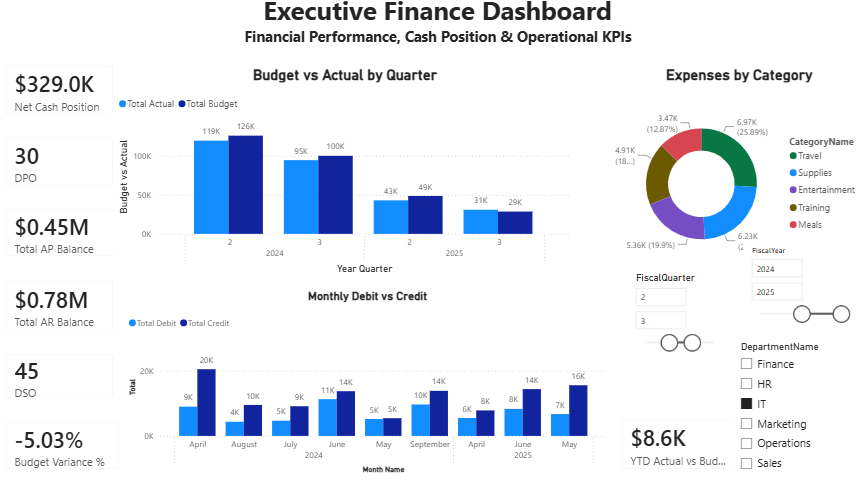

This screenshot's page, from the dashboard's own definition file:
{"tool":"powerbi","page":{"name":"Page 1","canvas":[1280,720],"ordinal":0},"visuals":[{"type":"cardVisual","title":"Net Cash Position","fields":{"Data":["dw FactGeneralLedger.Net Cash Position"]},"box":[0,95,191.7,105],"z":0},{"type":"textbox","box":[0,0,1269.9,95.7],"z":1000},{"type":"cardVisual","title":"DPO ","fields":{"Data":["dw FactAccountsPayable.DPO"]},"box":[0,200,191.5,104.1],"z":2000},{"type":"cardVisual","title":"Total AP Balance","fields":{"Data":["dw FactAccountsPayable.Total AP Balance"]},"box":[0,305.7,200,102.9],"z":3000},{"type":"cardVisual","title":"Total AR Balance","fields":{"Data":["dw FactAccountsReceivable.Total AR Balance"]},"box":[0,410,191.5,107.5],"z":4000},{"type":"cardVisual","title":"DSO","fields":{"Data":["dw FactAccountsReceivable.DSO"]},"box":[0,518.3,191.7,98.3],"z":5000},{"type":"cardVisual","fields":{"Data":["dw FactBudgetForecast.Budget Variance %"]},"box":[0,616.7,200,103.3],"z":6000},{"type":"clusteredColumnChart","title":"Budget vs Actual by Quarter","fields":{"Category":["dw DimDate.FiscalYear","dw DimDate.FiscalQuarter"],"Y":["dw FactBudgetForecast.Total Actual","dw FactBudgetForecast.Total Budget"]},"box":[177.1,112.9,672.9,310],"z":7000},{"type":"donutChart","title":"Expenses by Category","fields":{"Category":["dw DimExpenseCategory.CategoryName"],"Y":["dw FactExpenseClaims.Total Expenses by Category"]},"box":[901.7,113.3,378.3,310],"z":8000},{"type":"clusteredColumnChart","title":"Monthly Debit vs Credit","fields":{"Category":["dw DimDate.FiscalYear","dw DimDate.MonthName"],"Y":["dw FactGeneralLedger.Total Debit","dw FactGeneralLedger.Total Credit"]},"box":[191.7,438.3,710,275],"z":9000},{"type":"actionButton","box":[0,0,100,40],"z":10000},{"type":"cardVisual","fields":{"Data":["dw FactBudgetForecast.YTD Actual vs Budget"]},"box":[901.7,613.3,198.3,106.7],"z":10001},{"type":"slicer","fields":{"Values":["dw DimDepartment.DepartmentName"]},"box":[1080,510,200,205],"z":10003},{"type":"slicer","fields":{"Values":["dw DimDate.FiscalYear"]},"box":[1096.7,371.7,165,138.3],"z":10004},{"type":"slicer","fields":{"Values":["dw DimDate.FiscalQuarter"]},"box":[926.7,410,150,158.3],"z":10005}]}

Visuals, with their boxes in screenshot pixels (x1, y1, x2, y2), scaled from the page's 1280x720 canvas onto the 864x487 screenshot:
"Net Cash Position" cardVisual: 0, 64, 129, 135
textbox: 0, 0, 857, 65
"DPO " cardVisual: 0, 135, 129, 206
"Total AP Balance" cardVisual: 0, 207, 135, 276
"Total AR Balance" cardVisual: 0, 277, 129, 350
"DSO" cardVisual: 0, 351, 129, 417
cardVisual - dw FactBudgetForecast.Budget Variance %: 0, 417, 135, 486
"Budget vs Actual by Quarter" clusteredColumnChart: 120, 76, 574, 286
"Expenses by Category" donutChart: 609, 77, 863, 286
"Monthly Debit vs Credit" clusteredColumnChart: 129, 296, 609, 482
actionButton: 0, 0, 68, 27
cardVisual - dw FactBudgetForecast.YTD Actual vs Budget: 609, 415, 742, 486
slicer - dw DimDepartment.DepartmentName: 729, 345, 863, 484
slicer - dw DimDate.FiscalYear: 740, 251, 852, 345
slicer - dw DimDate.FiscalQuarter: 626, 277, 727, 384
